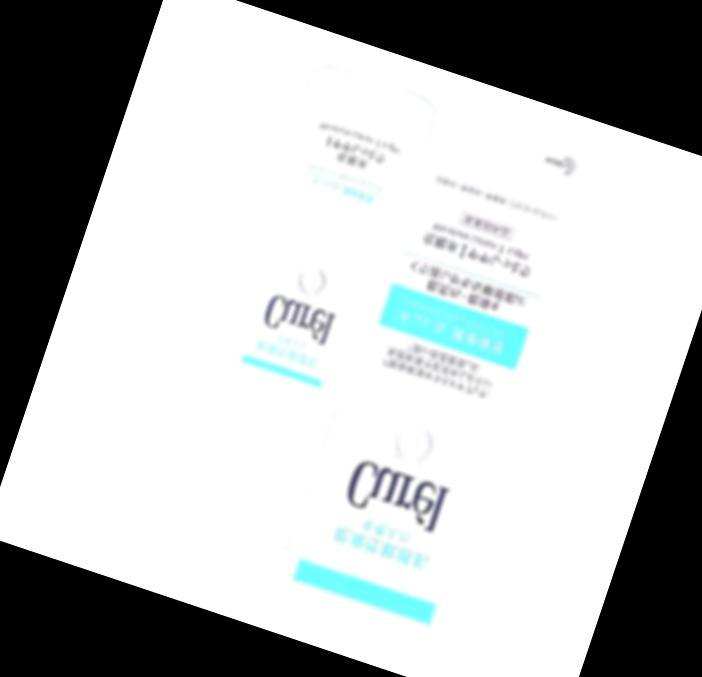cosmetic: (164, 71, 439, 553)
